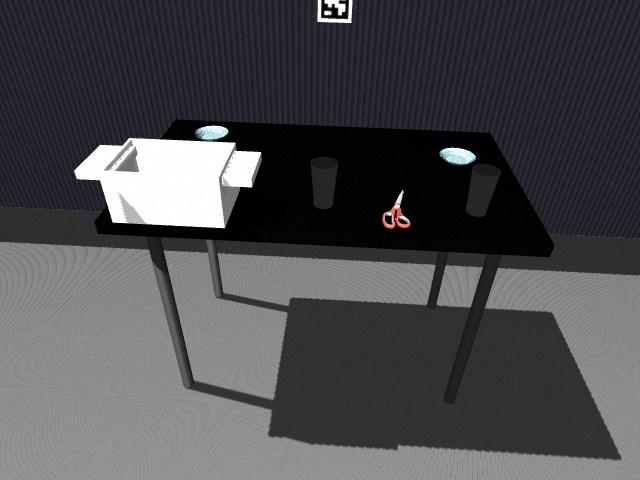cup: (467, 163, 502, 216), (310, 157, 338, 208)
plate: (437, 147, 477, 166), (194, 125, 230, 141)
scissors: (381, 189, 412, 230)
